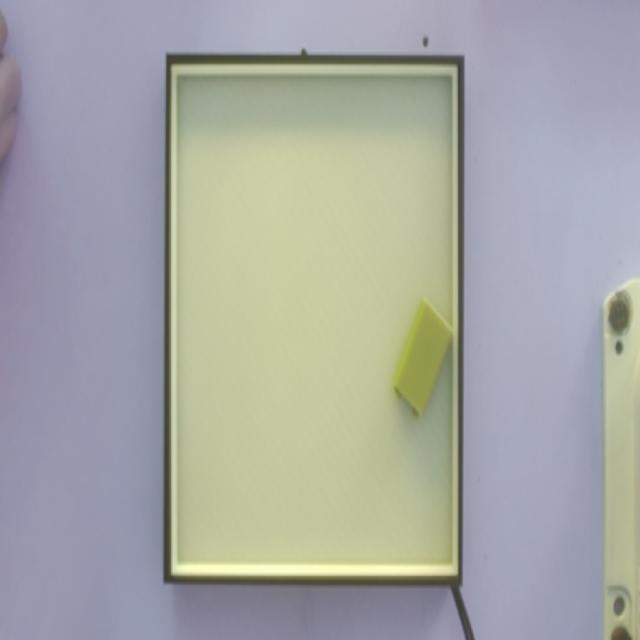bateria: (393, 296, 454, 419)
mesa: (163, 55, 465, 587)
